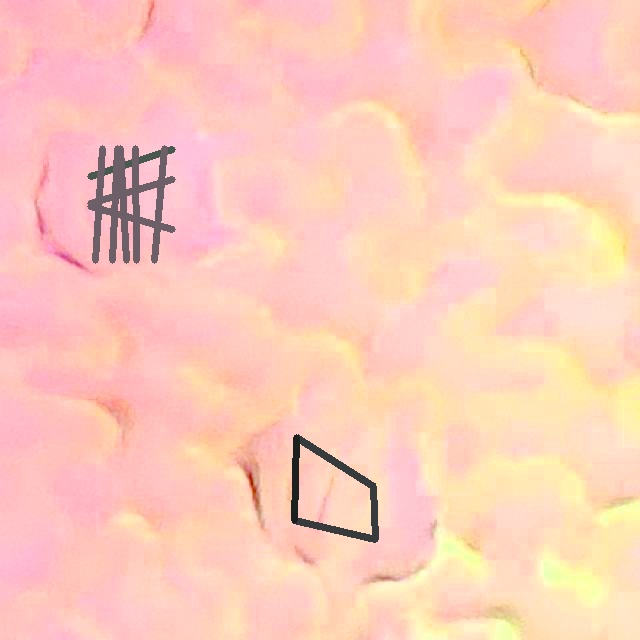close: (87, 146, 175, 262), (291, 434, 376, 542)
